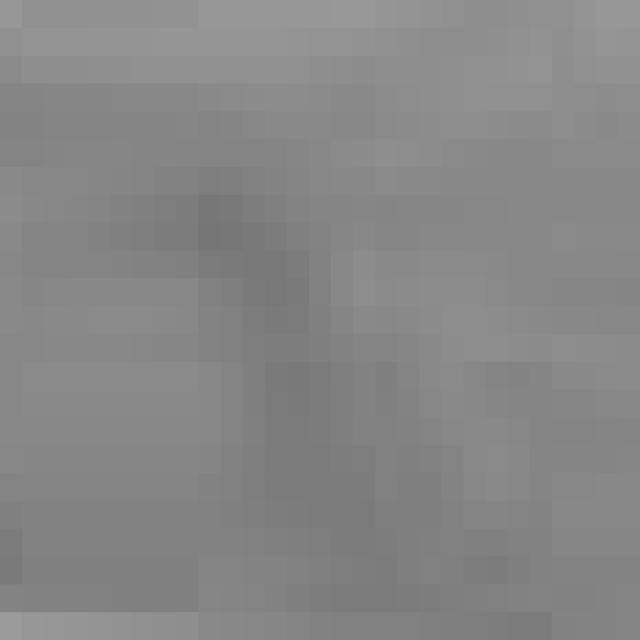fracture: (0, 18, 640, 640)
